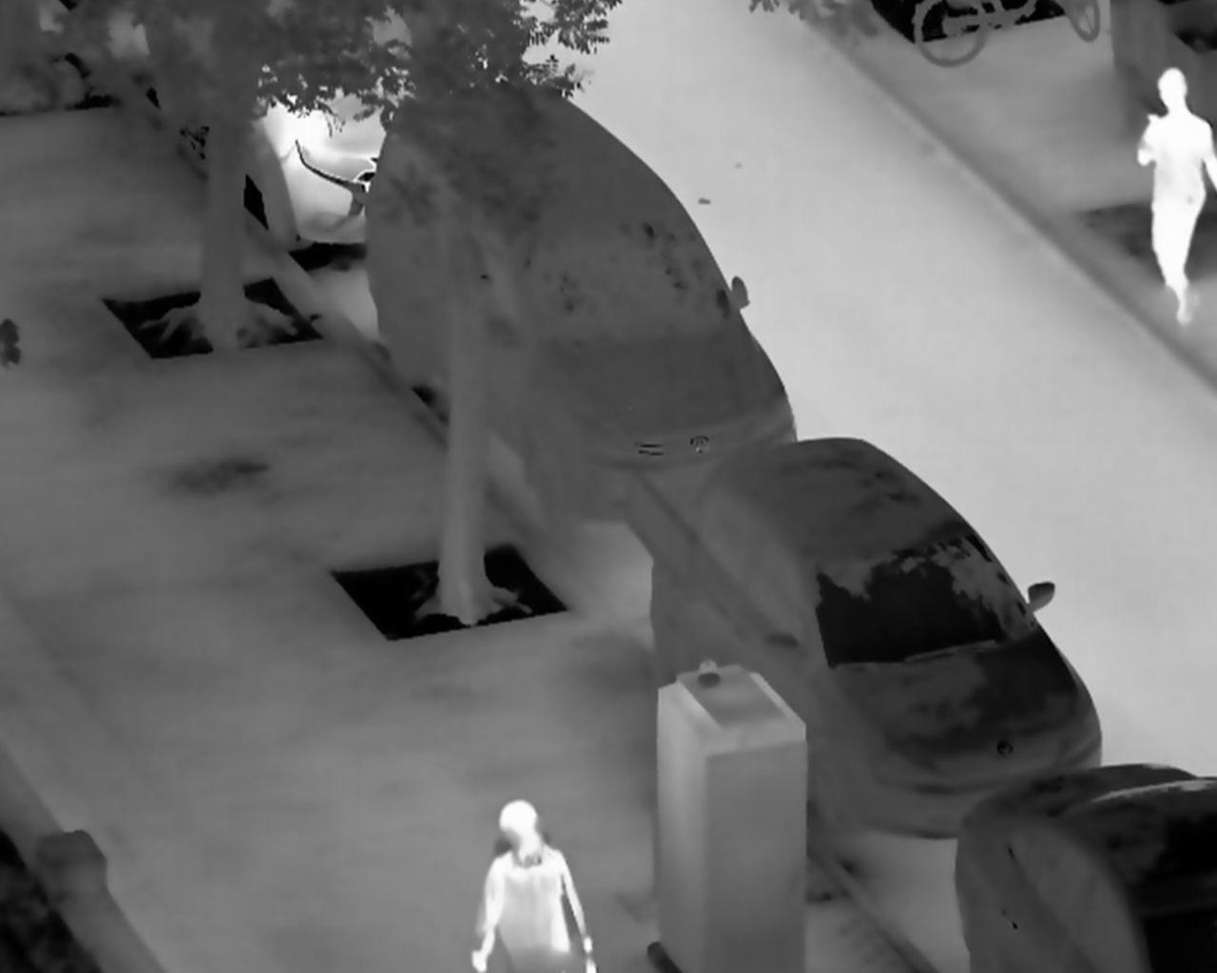person: (470, 800, 599, 973), (1137, 67, 1217, 327)
